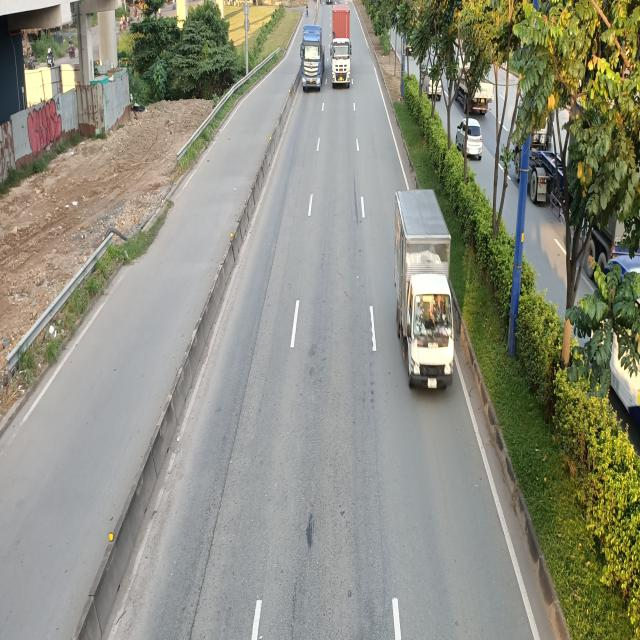container: (299, 6, 323, 92), (331, 5, 354, 89)
truck: (394, 189, 464, 393)
